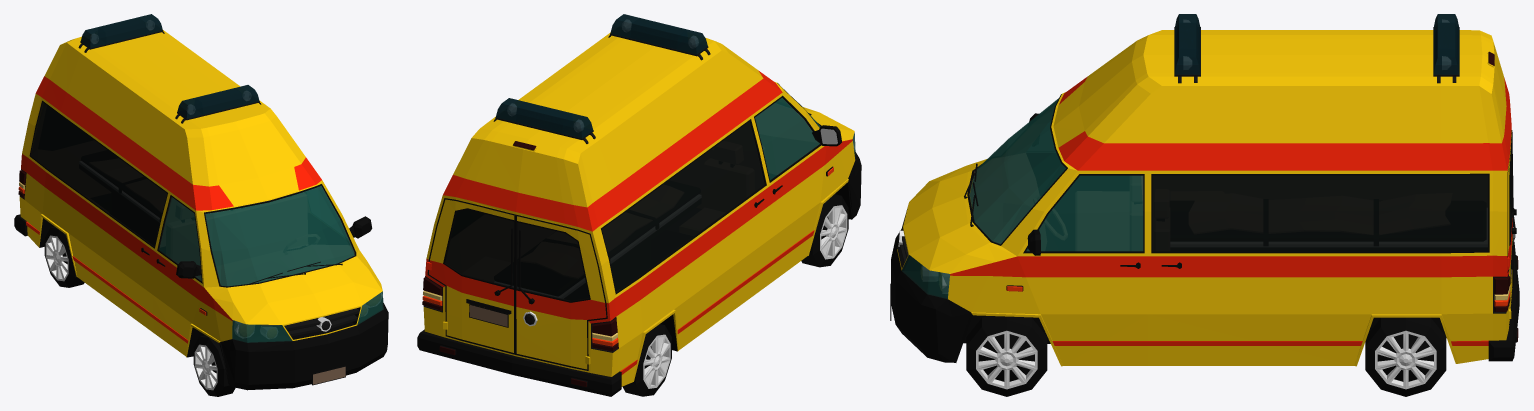
Rendered from Ambulance_03.FBX.
The picture shows the model from 3 angles, left to right: view 1: azimuth 30°, elevation 25°; view 2: azimuth 150°, elevation 25°; view 3: azimuth 270°, elevation 25°; orthographic projection. The views are drawn at different scales.
Parts seen in each view (by area): view 1: Ambulance_03, interior, lights, wheel_f_r, wheel_b_r, signalLights_02, signalLights_01, licensePlate_f, mirror_r, headLights, mirror_l; view 2: Ambulance_03, bumper_b, lights, interior, wheel_b_r, wheel_f_r, tailLights, signalLights_01, signalLights_02, licensePlate_b, mirror_r; view 3: Ambulance_03, interior, wheel_f_l, wheel_b_l, lights, bumper_b, signalLights_02, signalLights_01.
Part boxes in pixels (left/top/right/bottom): Ambulance_03: left=19, top=30, right=388, bottom=390; interior: left=159, top=186, right=354, bottom=285; lights: left=78, top=17, right=382, bottom=338; wheel_f_r: left=193, top=335, right=235, bottom=396; wheel_b_r: left=44, top=226, right=84, bottom=287; signalLights_02: left=138, top=14, right=203, bottom=118; signalLights_01: left=81, top=27, right=259, bottom=104; licensePlate_f: left=312, top=365, right=345, bottom=385; mirror_r: left=176, top=261, right=201, bottom=278; headLights: left=239, top=294, right=380, bottom=337; mirror_l: left=349, top=216, right=372, bottom=238; Ambulance_03: left=423, top=32, right=861, bottom=386; bumper_b: left=417, top=329, right=621, bottom=396; lights: left=440, top=18, right=854, bottom=387; interior: left=755, top=98, right=819, bottom=179; wheel_b_r: left=622, top=324, right=671, bottom=396; wheel_f_r: left=801, top=194, right=848, bottom=267; tailLights: left=422, top=141, right=618, bottom=386; signalLights_01: left=562, top=14, right=639, bottom=138; signalLights_02: left=495, top=29, right=707, bottom=121; licensePlate_b: left=469, top=304, right=508, bottom=327; mirror_r: left=812, top=125, right=841, bottom=146; Ambulance_03: left=891, top=30, right=1514, bottom=366; interior: left=970, top=100, right=1142, bottom=250; wheel_f_l: left=966, top=316, right=1047, bottom=396; wheel_b_l: left=1365, top=317, right=1446, bottom=396; lights: left=923, top=20, right=1517, bottom=342; bumper_b: left=1488, top=242, right=1519, bottom=361; signalLights_02: left=1175, top=14, right=1459, bottom=74; signalLights_01: left=1175, top=14, right=1459, bottom=74.
Size of the model in its own units: 28.1 by 32.06 by 58.78.
